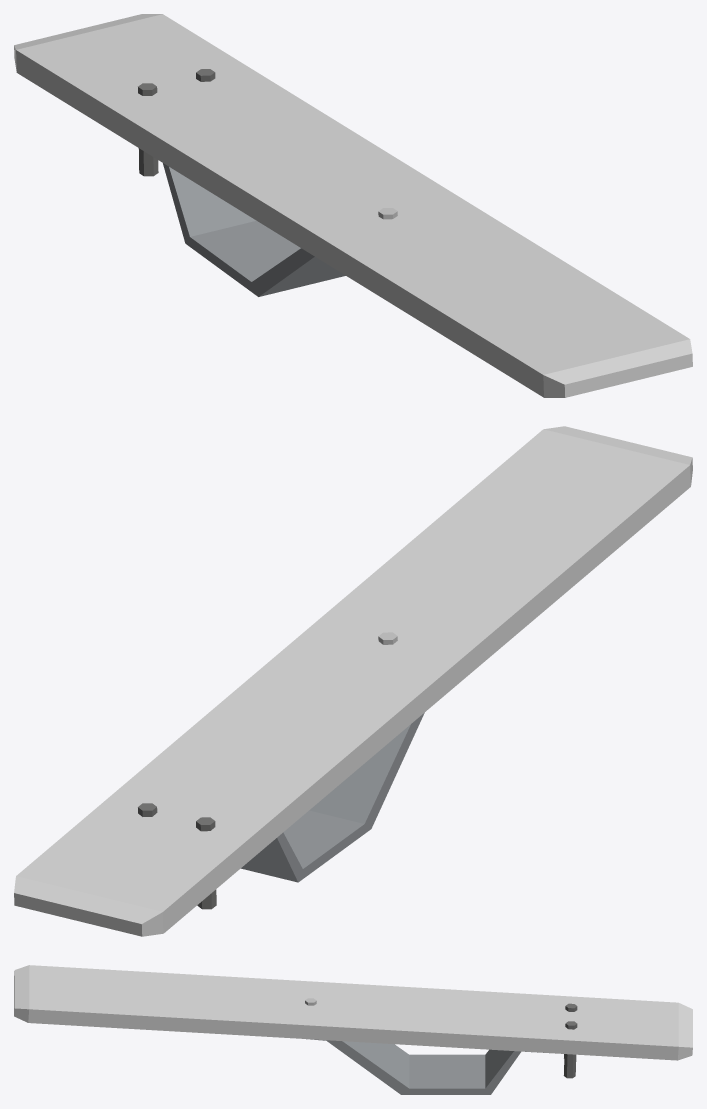
File: DivingBoard.obj
3 views of the same model, one above another, from view 1: azimuth 30°, elevation 25°; view 2: azimuth 150°, elevation 25°; view 3: azimuth 270°, elevation 25° (orthographic). The views are drawn at different scales.
Visible parts, largest first — view 1: DivingBoard; view 2: DivingBoard; view 3: DivingBoard.
Boxes of the visible parts, x1=… form: DivingBoard: x1=14, y1=14, x2=692, y2=397; DivingBoard: x1=14, y1=426, x2=692, y2=936; DivingBoard: x1=14, y1=965, x2=692, y2=1094.
Bounding box in the file's own units: 0.4308 × 0.4126 × 2.8.
1 material, 1 textured.
